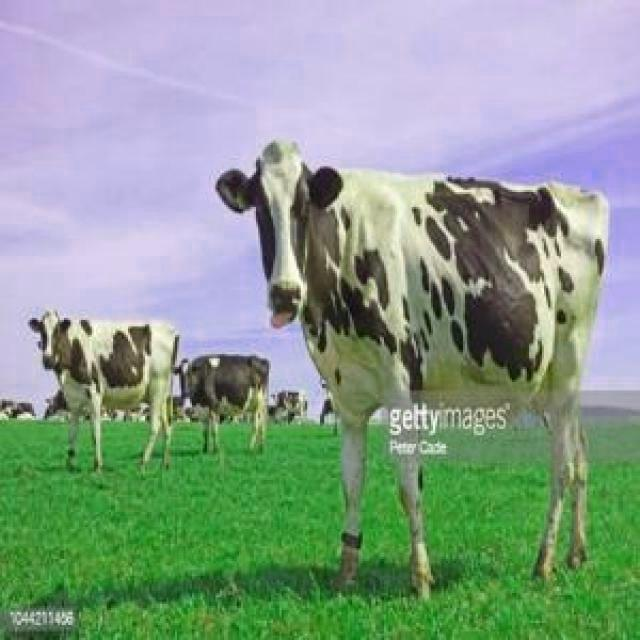cow: (216, 140, 608, 596)
